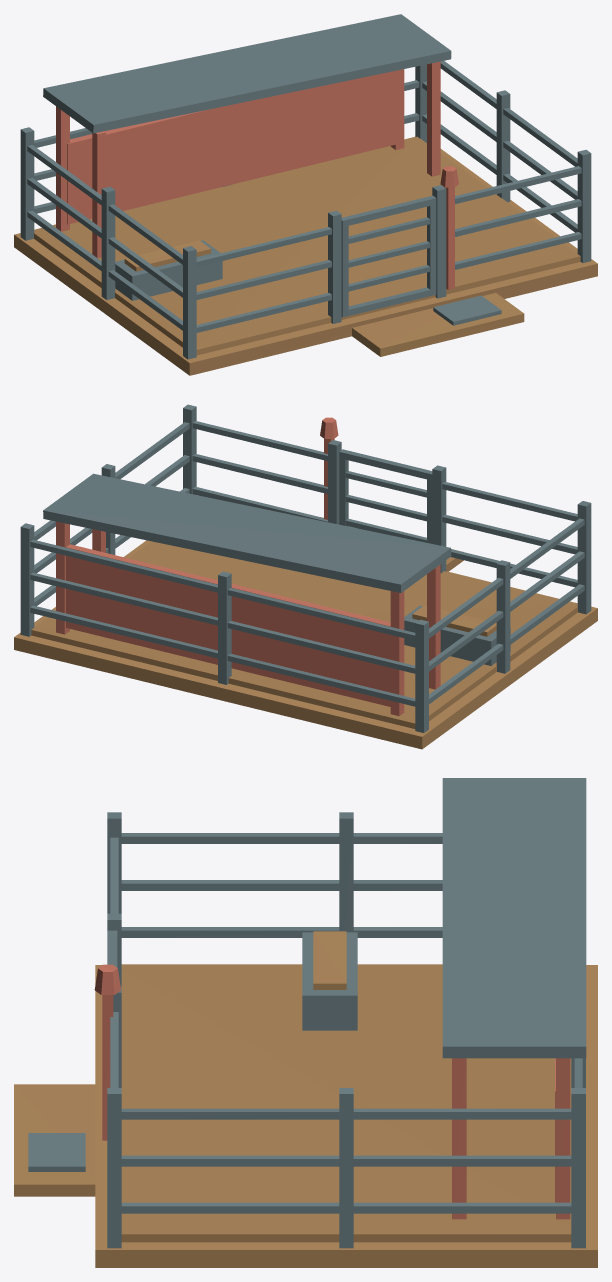
File: Quarantine-Pen.glb
3 views of the same model, one above another, from view 1: azimuth 30°, elevation 25°; view 2: azimuth 150°, elevation 25°; view 3: azimuth 270°, elevation 25° (orthographic). The views are drawn at different scales.
Visible parts, largest first — view 1: quarantine-pen-static-quarantine-pen-galvanized-iron-mat, quarantine-pen-static-quarantine-pen-dry-floor-mat, quarantine-pen-static-quarantine-pen-weathered-timber-mat, quarantine-pen-static-quarantine-pen-tan-drainage-curb-mat; view 2: quarantine-pen-static-quarantine-pen-galvanized-iron-mat, quarantine-pen-static-quarantine-pen-weathered-timber-mat, quarantine-pen-static-quarantine-pen-dry-floor-mat, quarantine-pen-static-quarantine-pen-tan-drainage-curb-mat; view 3: quarantine-pen-static-quarantine-pen-dry-floor-mat, quarantine-pen-static-quarantine-pen-galvanized-iron-mat, quarantine-pen-static-quarantine-pen-tan-drainage-curb-mat, quarantine-pen-static-quarantine-pen-weathered-timber-mat, quarantine-pen-static-quarantine-pen-status-red-mat.
Boxes of the visible parts, x1,y1,x2,y2 form: quarantine-pen-static-quarantine-pen-galvanized-iron-mat: (20,14,591,359); quarantine-pen-static-quarantine-pen-dry-floor-mat: (34,136,580,355); quarantine-pen-static-quarantine-pen-weathered-timber-mat: (56,61,454,289); quarantine-pen-static-quarantine-pen-tan-drainage-curb-mat: (14,137,597,375); quarantine-pen-static-quarantine-pen-galvanized-iron-mat: (20,404,591,732); quarantine-pen-static-quarantine-pen-weathered-timber-mat: (56,438,440,716); quarantine-pen-static-quarantine-pen-dry-floor-mat: (31,541,577,728); quarantine-pen-static-quarantine-pen-tan-drainage-curb-mat: (14,517,597,749); quarantine-pen-static-quarantine-pen-dry-floor-mat: (121,931,571,1242); quarantine-pen-static-quarantine-pen-galvanized-iron-mat: (28,778,586,1248); quarantine-pen-static-quarantine-pen-tan-drainage-curb-mat: (14,965,597,1267); quarantine-pen-static-quarantine-pen-weathered-timber-mat: (102,995,570,1219); quarantine-pen-static-quarantine-pen-status-red-mat: (94,964,120,994).
Size of the model in its own units: 6.1 by 2.22 by 5.29.
